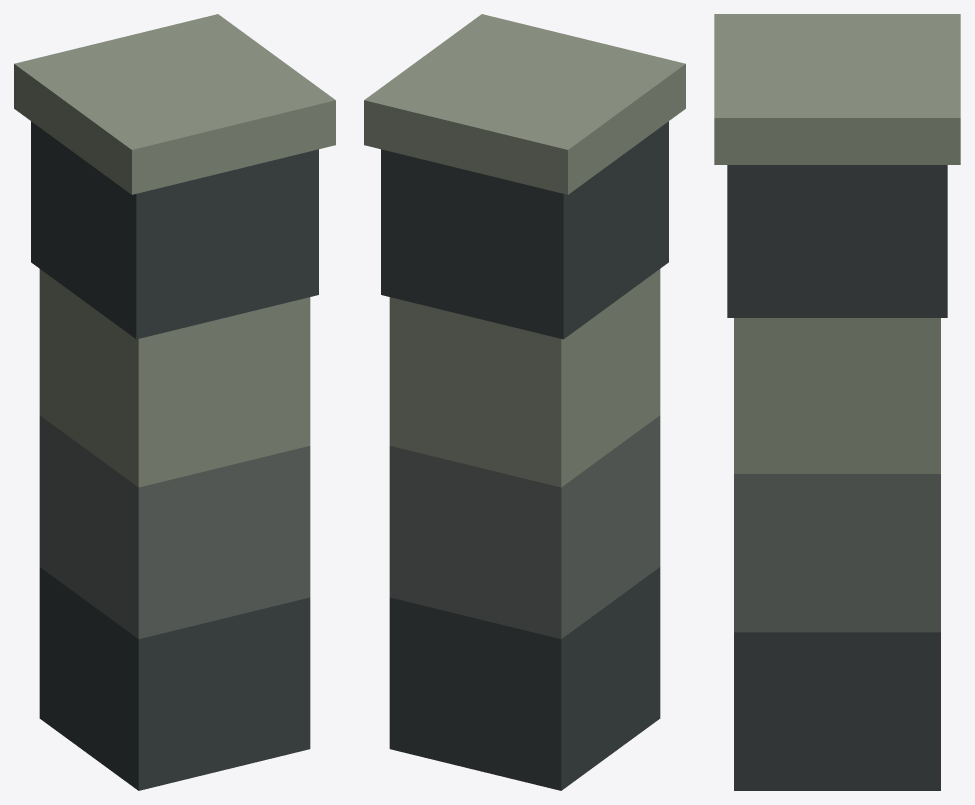
File: TW_STONE_END_CAP_B_LOD0.glb
The picture shows the model from 3 angles, left to right: view 1: azimuth 30°, elevation 25°; view 2: azimuth 150°, elevation 25°; view 3: azimuth 270°, elevation 25°; orthographic projection. The views are drawn at different scales.
Visible parts, largest first — view 1: TW_STONE_END_CAP_B_LOD0; view 2: TW_STONE_END_CAP_B_LOD0; view 3: TW_STONE_END_CAP_B_LOD0.
Boxes of the visible parts, box(x1,y1,x2,y2) form: TW_STONE_END_CAP_B_LOD0: box(14, 14, 335, 790); TW_STONE_END_CAP_B_LOD0: box(364, 14, 685, 790); TW_STONE_END_CAP_B_LOD0: box(714, 14, 960, 790).
Size of the model in its own units: 0.38 by 1.16 by 0.38.
1 material, 1 textured.
